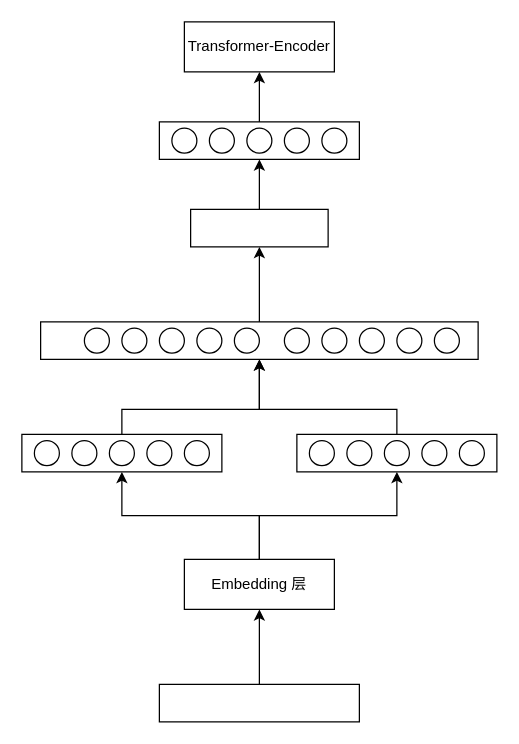
The diagram is 519 pixels wide and 744 high, and some of its shapes have lost their labels. The shapes that lost their labels are listed below. From the top down, each one's box as (x1, y1, x2, y2) in pixels, then its label:
(189, 208, 328, 247): 全连接层
(158, 683, 359, 722): 我是北京工业大学学生
